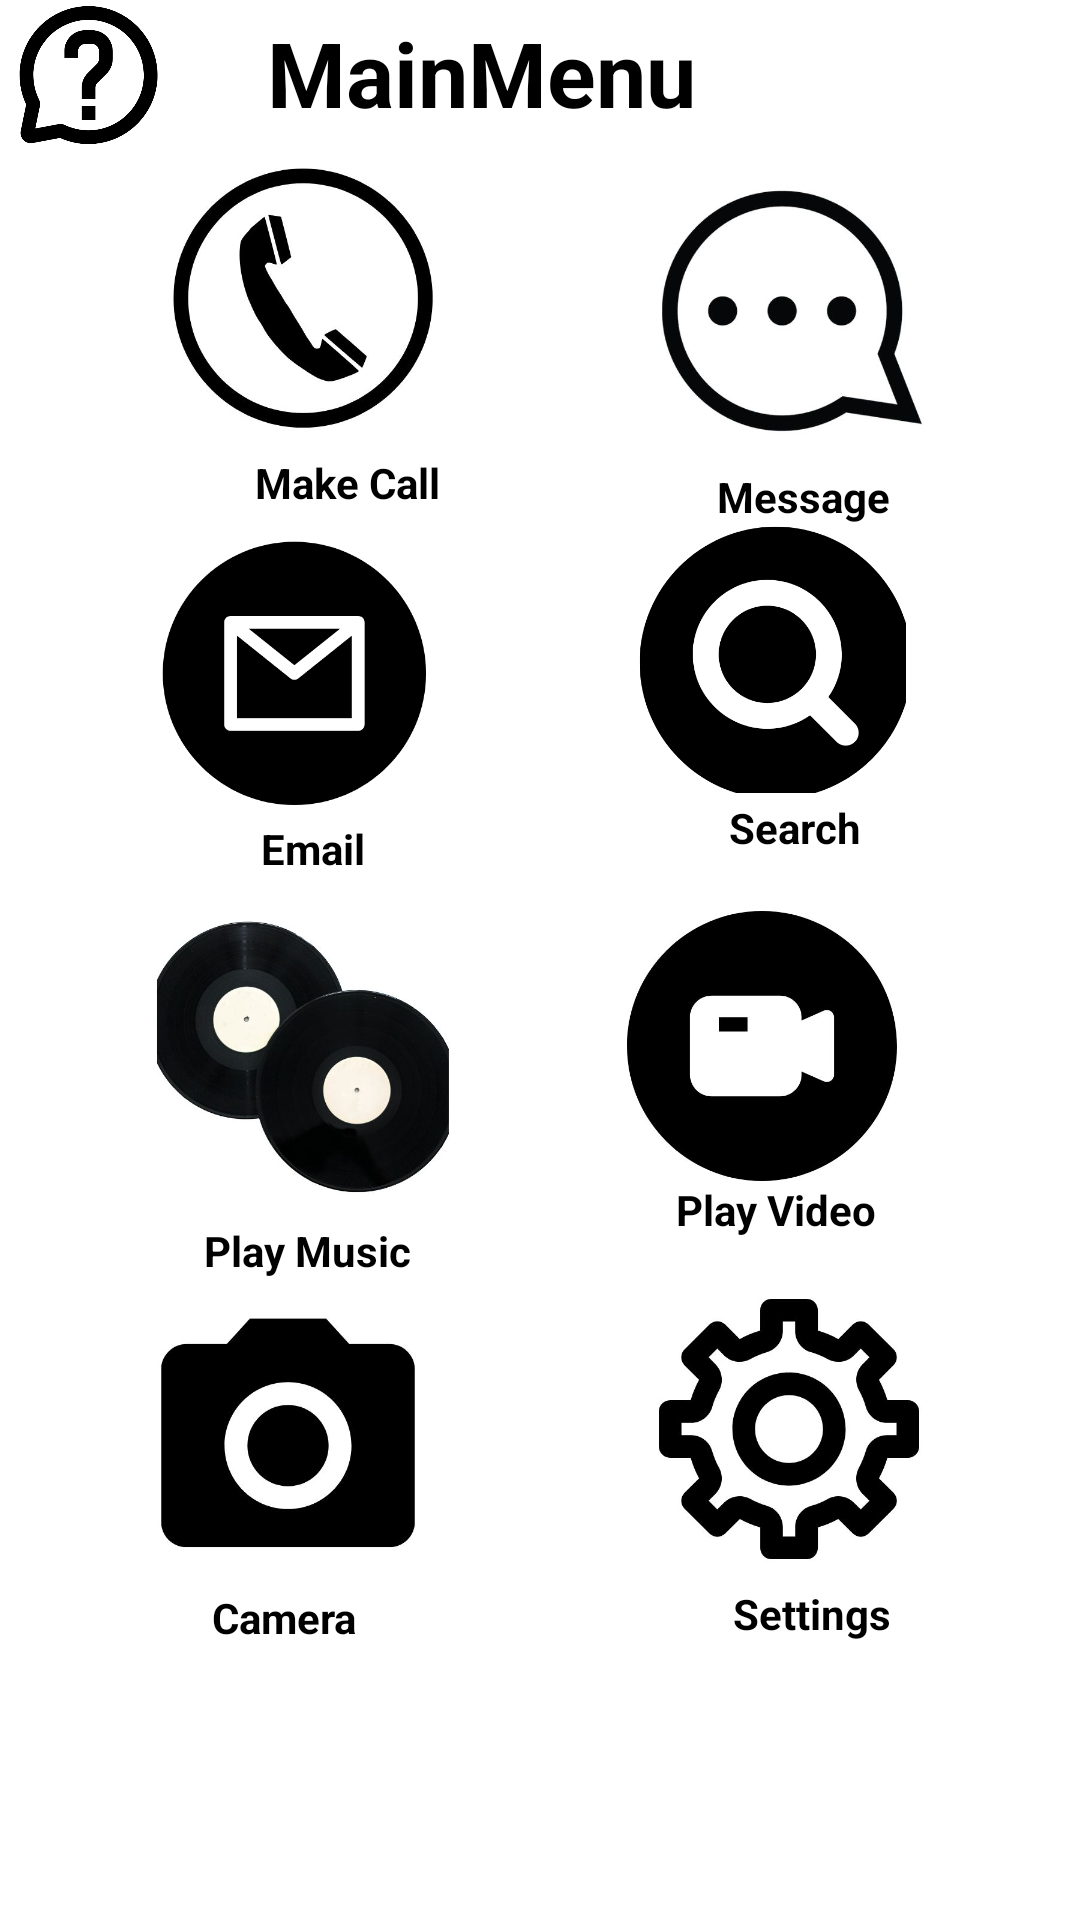

Locate icon controls on the screen. Image size 1080×1920, boxes as (x1, y1, x2, y2).
help view: (19, 6, 158, 144)
